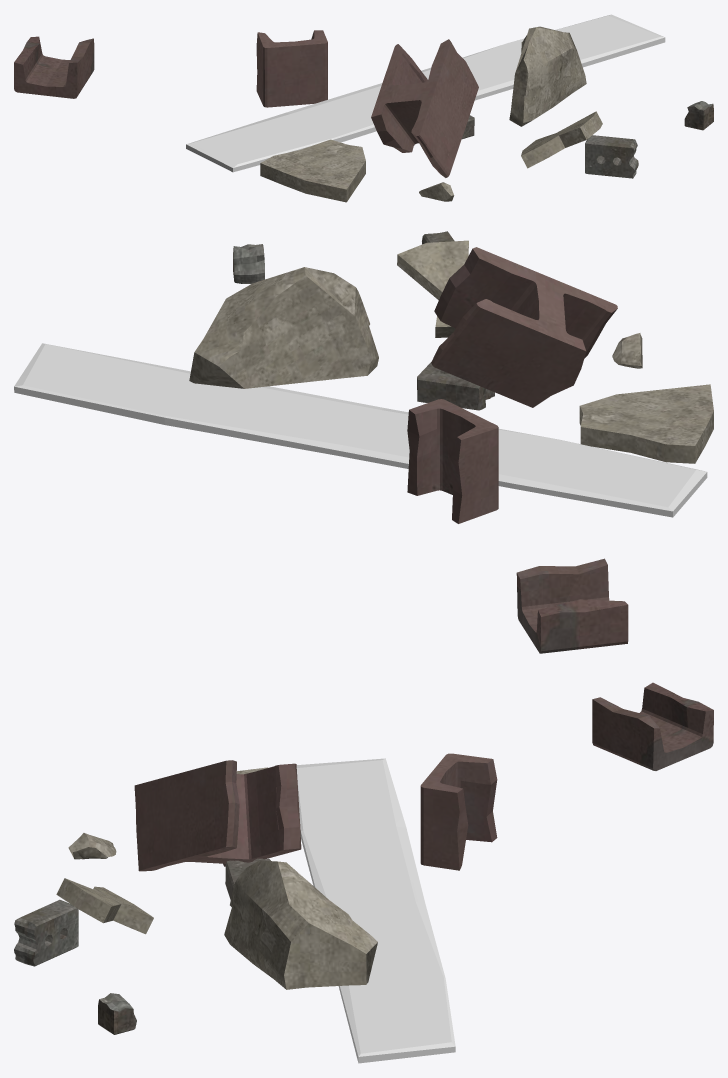
Rendered from RubbleA.fbx.
The picture shows the model from 3 angles, top to bottom: view 1: azimuth 30°, elevation 25°; view 2: azimuth 150°, elevation 25°; view 3: azimuth 270°, elevation 25°; orthographic projection. The views are drawn at different scales.
Parts seen in each view (by area): view 1: RubbleA; view 2: RubbleA; view 3: RubbleA.
Boxes of the visible parts, left/top/right/bottom form: RubbleA: left=14, top=14, right=713, bottom=202; RubbleA: left=14, top=231, right=713, bottom=653; RubbleA: left=14, top=682, right=713, bottom=1063.
Bounding box in the file's own units: 1.9 × 0.3497 × 1.63.
